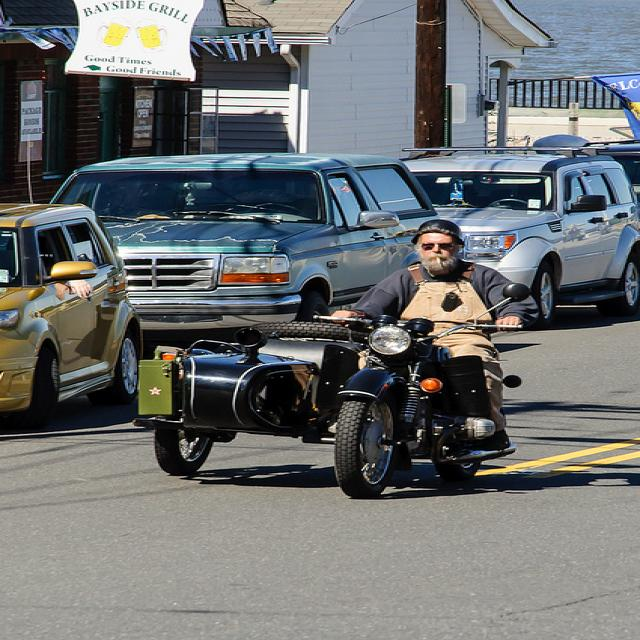motor: (127, 283, 538, 500)
